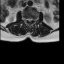CCS_stenosis: (29, 16, 30, 24)
LFS_stenosis: (32, 16, 34, 22)
LLS_stenosis: (30, 16, 32, 23)
RFS_stenosis: (25, 16, 27, 22)
RLS_stenosis: (27, 16, 29, 22)
